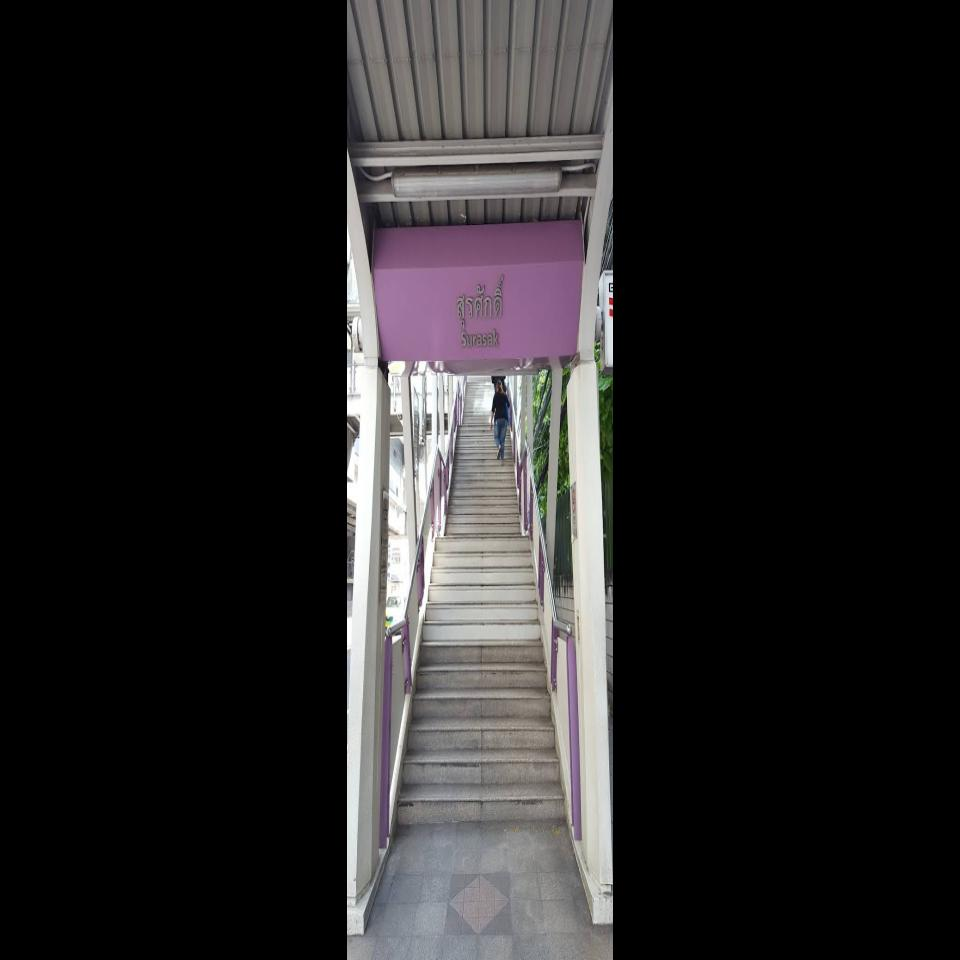signage: (371, 258, 583, 358)
